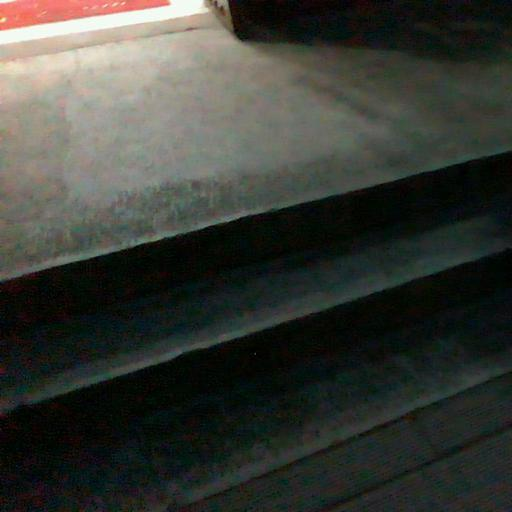stairs: (0, 154, 511, 511)
